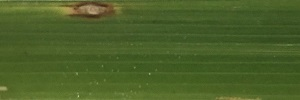RiceBlast: (59, 1, 123, 22)
